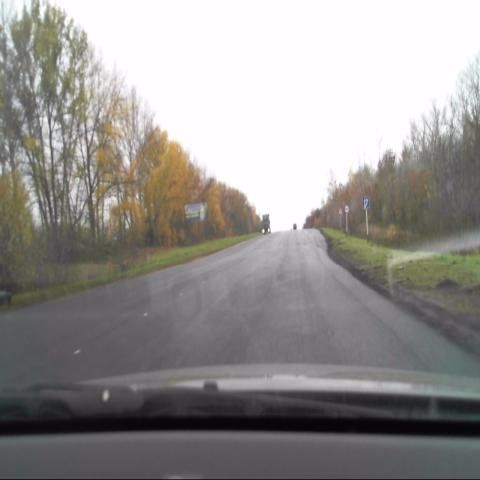5_15_3: (362, 196, 370, 209)
